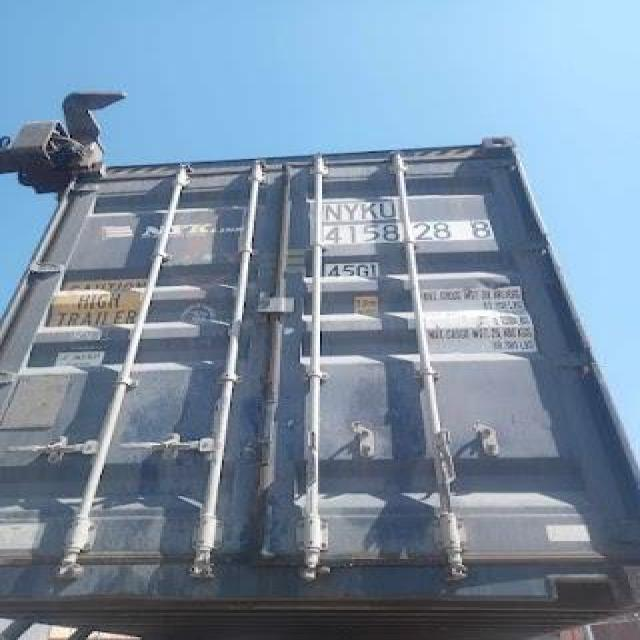ISO: (323, 256, 381, 280)
container_number: (323, 194, 499, 243)
